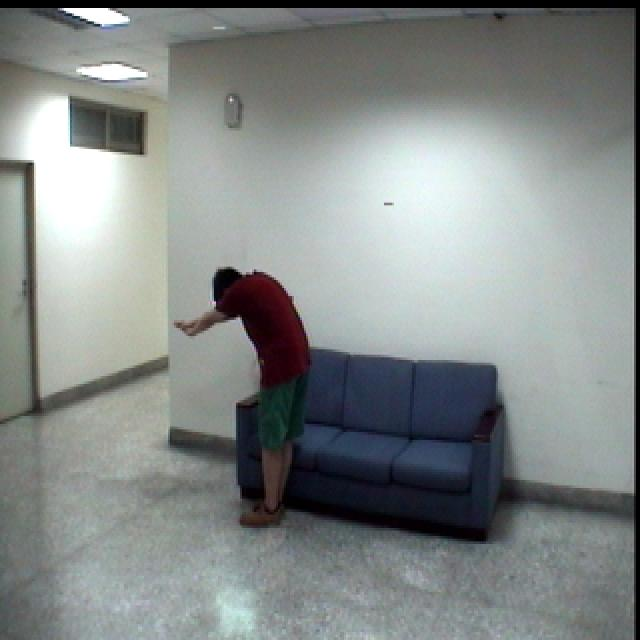bend: (160, 256, 318, 531)
